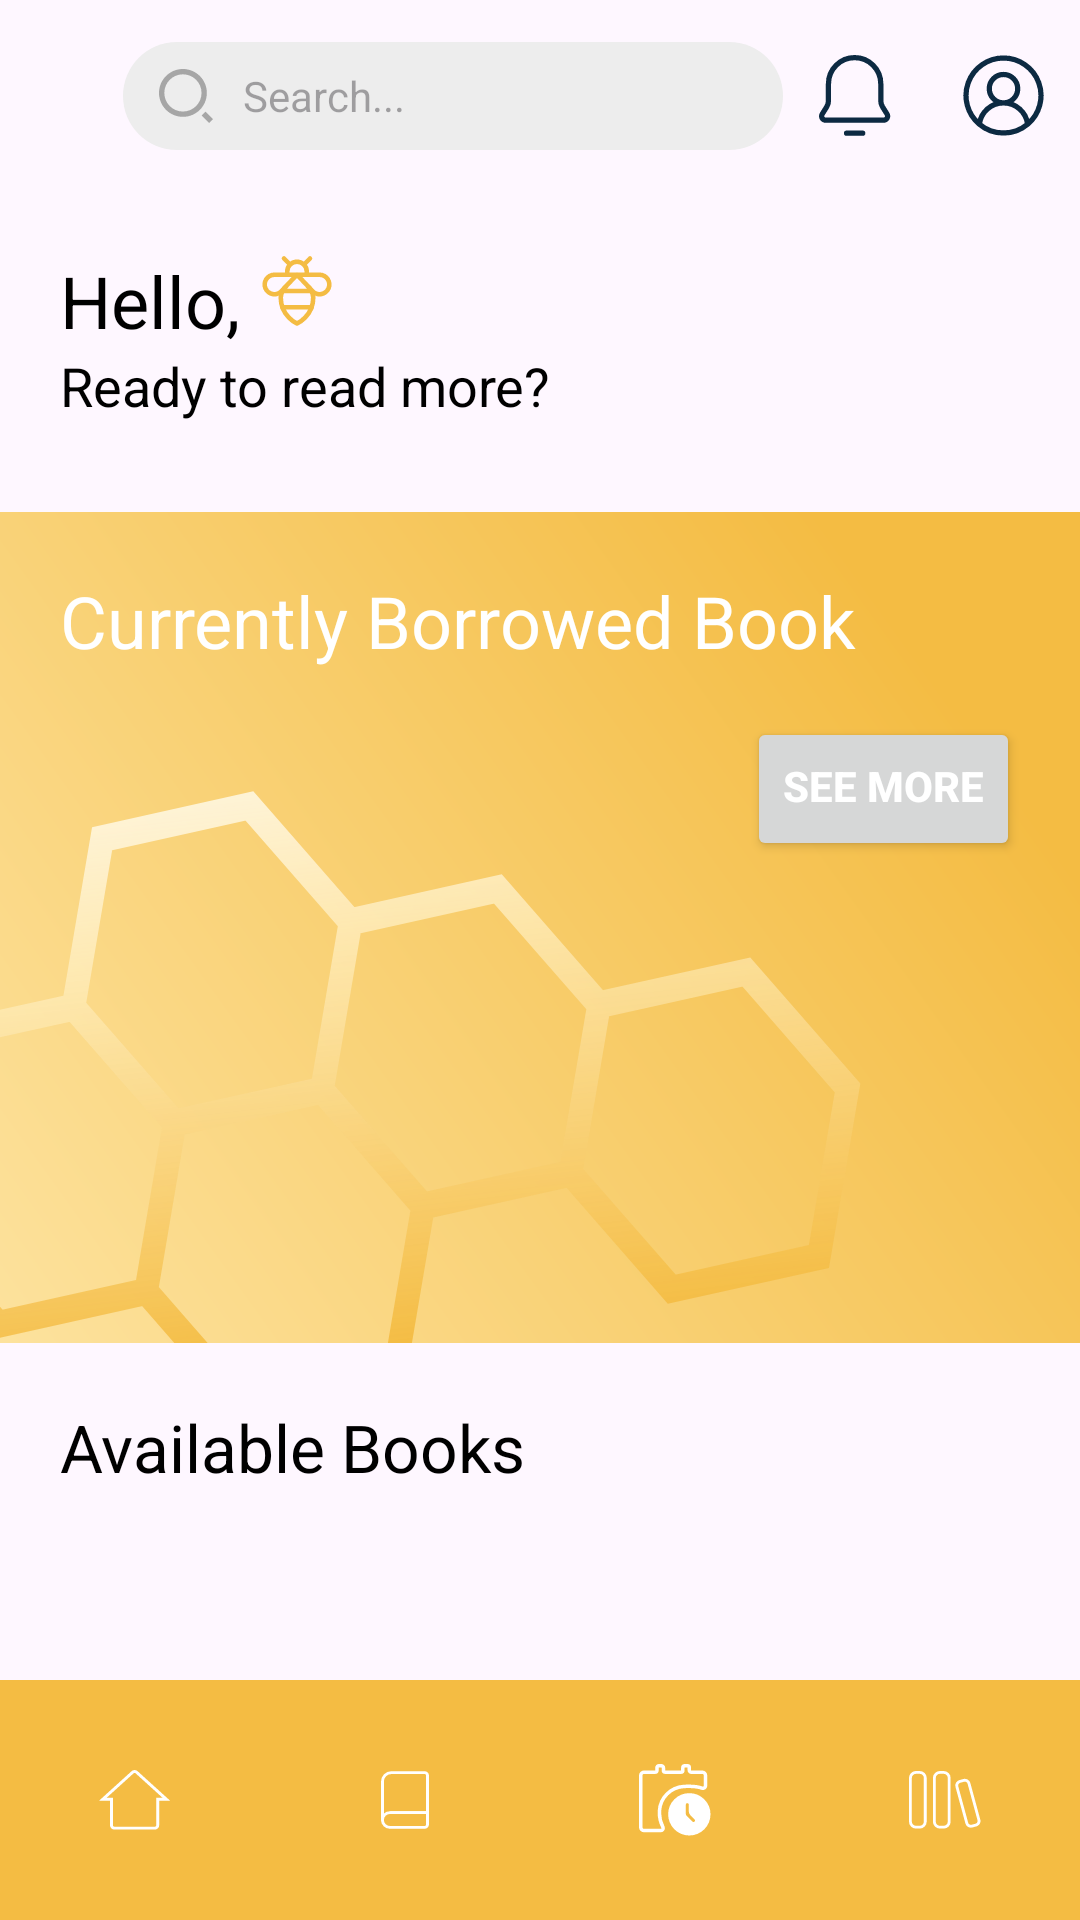

Screen size 1080*1920. Icon name, then its box in pixels as (x1, y1, x2, y2):
bee: (262, 256, 332, 326)
